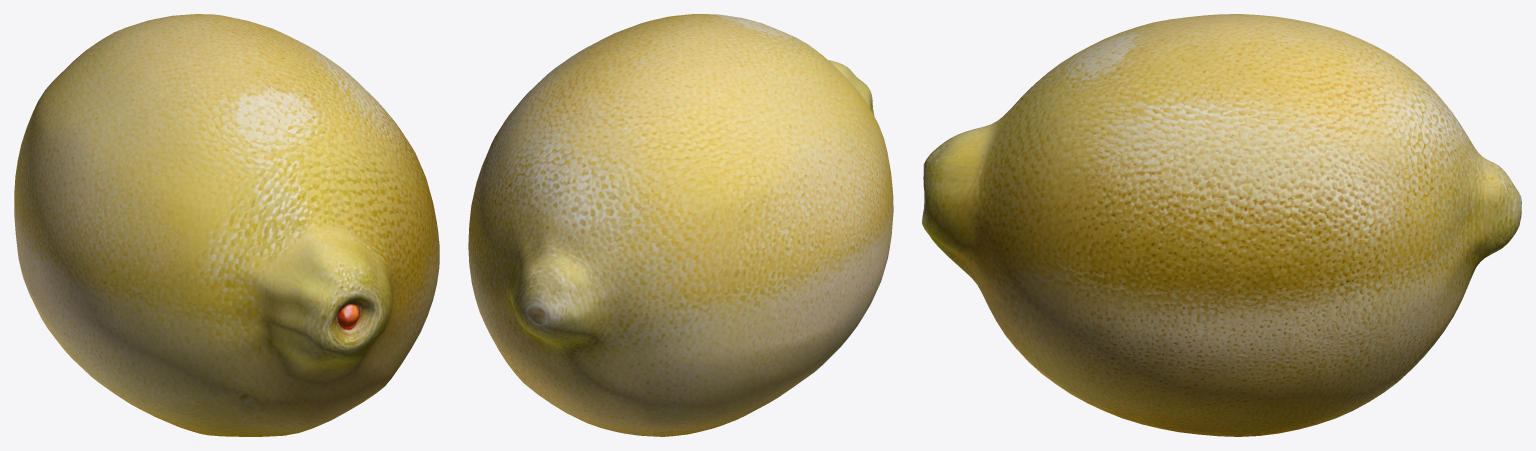
The model's file is lemon.fbx.
3 views of the same model, side by side, from view 1: azimuth 30°, elevation 25°; view 2: azimuth 150°, elevation 25°; view 3: azimuth 270°, elevation 25° (orthographic). The views are drawn at different scales.
Parts seen in each view (by area): view 1: texture_mapping; view 2: texture_mapping; view 3: texture_mapping.
Part boxes in pixels (x1,y1,x2,y2): texture_mapping: (14, 14, 439, 436); texture_mapping: (468, 14, 893, 436); texture_mapping: (922, 14, 1521, 436).
Size of the model in its own units: 0.6878 by 1 by 0.7077.
Materials: 1 (1 with a texture image).
